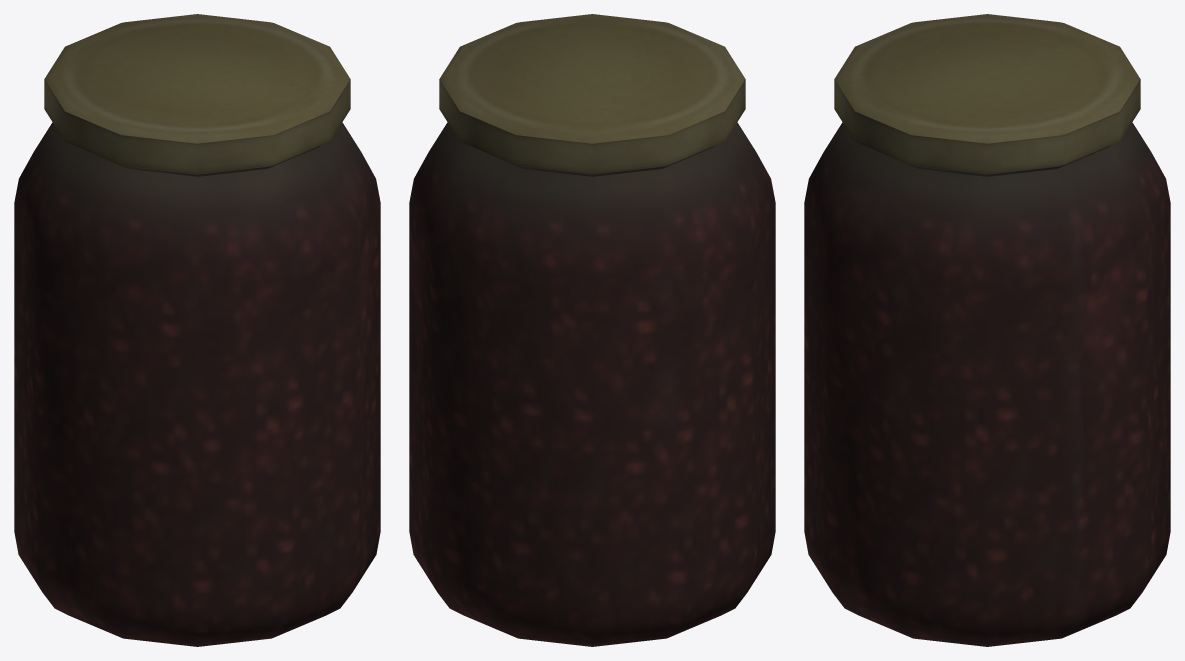
The model's file is jam_jar_mp_1_small.obj.
3 renders of one model, left to right at view 1: azimuth 30°, elevation 25°; view 2: azimuth 150°, elevation 25°; view 3: azimuth 270°, elevation 25°, orthographic.
Parts seen in each view (by area): view 1: jam_jar_mp_1_small; view 2: jam_jar_mp_1_small; view 3: jam_jar_mp_1_small.
Part boxes in pixels (x1,y1,x2,y2): jam_jar_mp_1_small: (14, 14, 380, 646); jam_jar_mp_1_small: (409, 14, 775, 646); jam_jar_mp_1_small: (804, 14, 1170, 646).
Size of the model in its own units: 0.1294 by 0.1982 by 0.1294.
